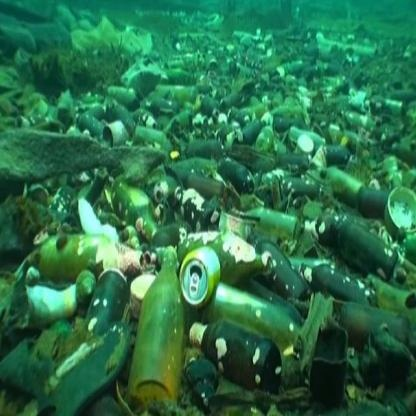can: (181, 231, 225, 313)
gbottle: (186, 305, 314, 416), (216, 267, 314, 373), (73, 251, 160, 363), (18, 221, 130, 304), (136, 236, 186, 402), (250, 232, 296, 300)
